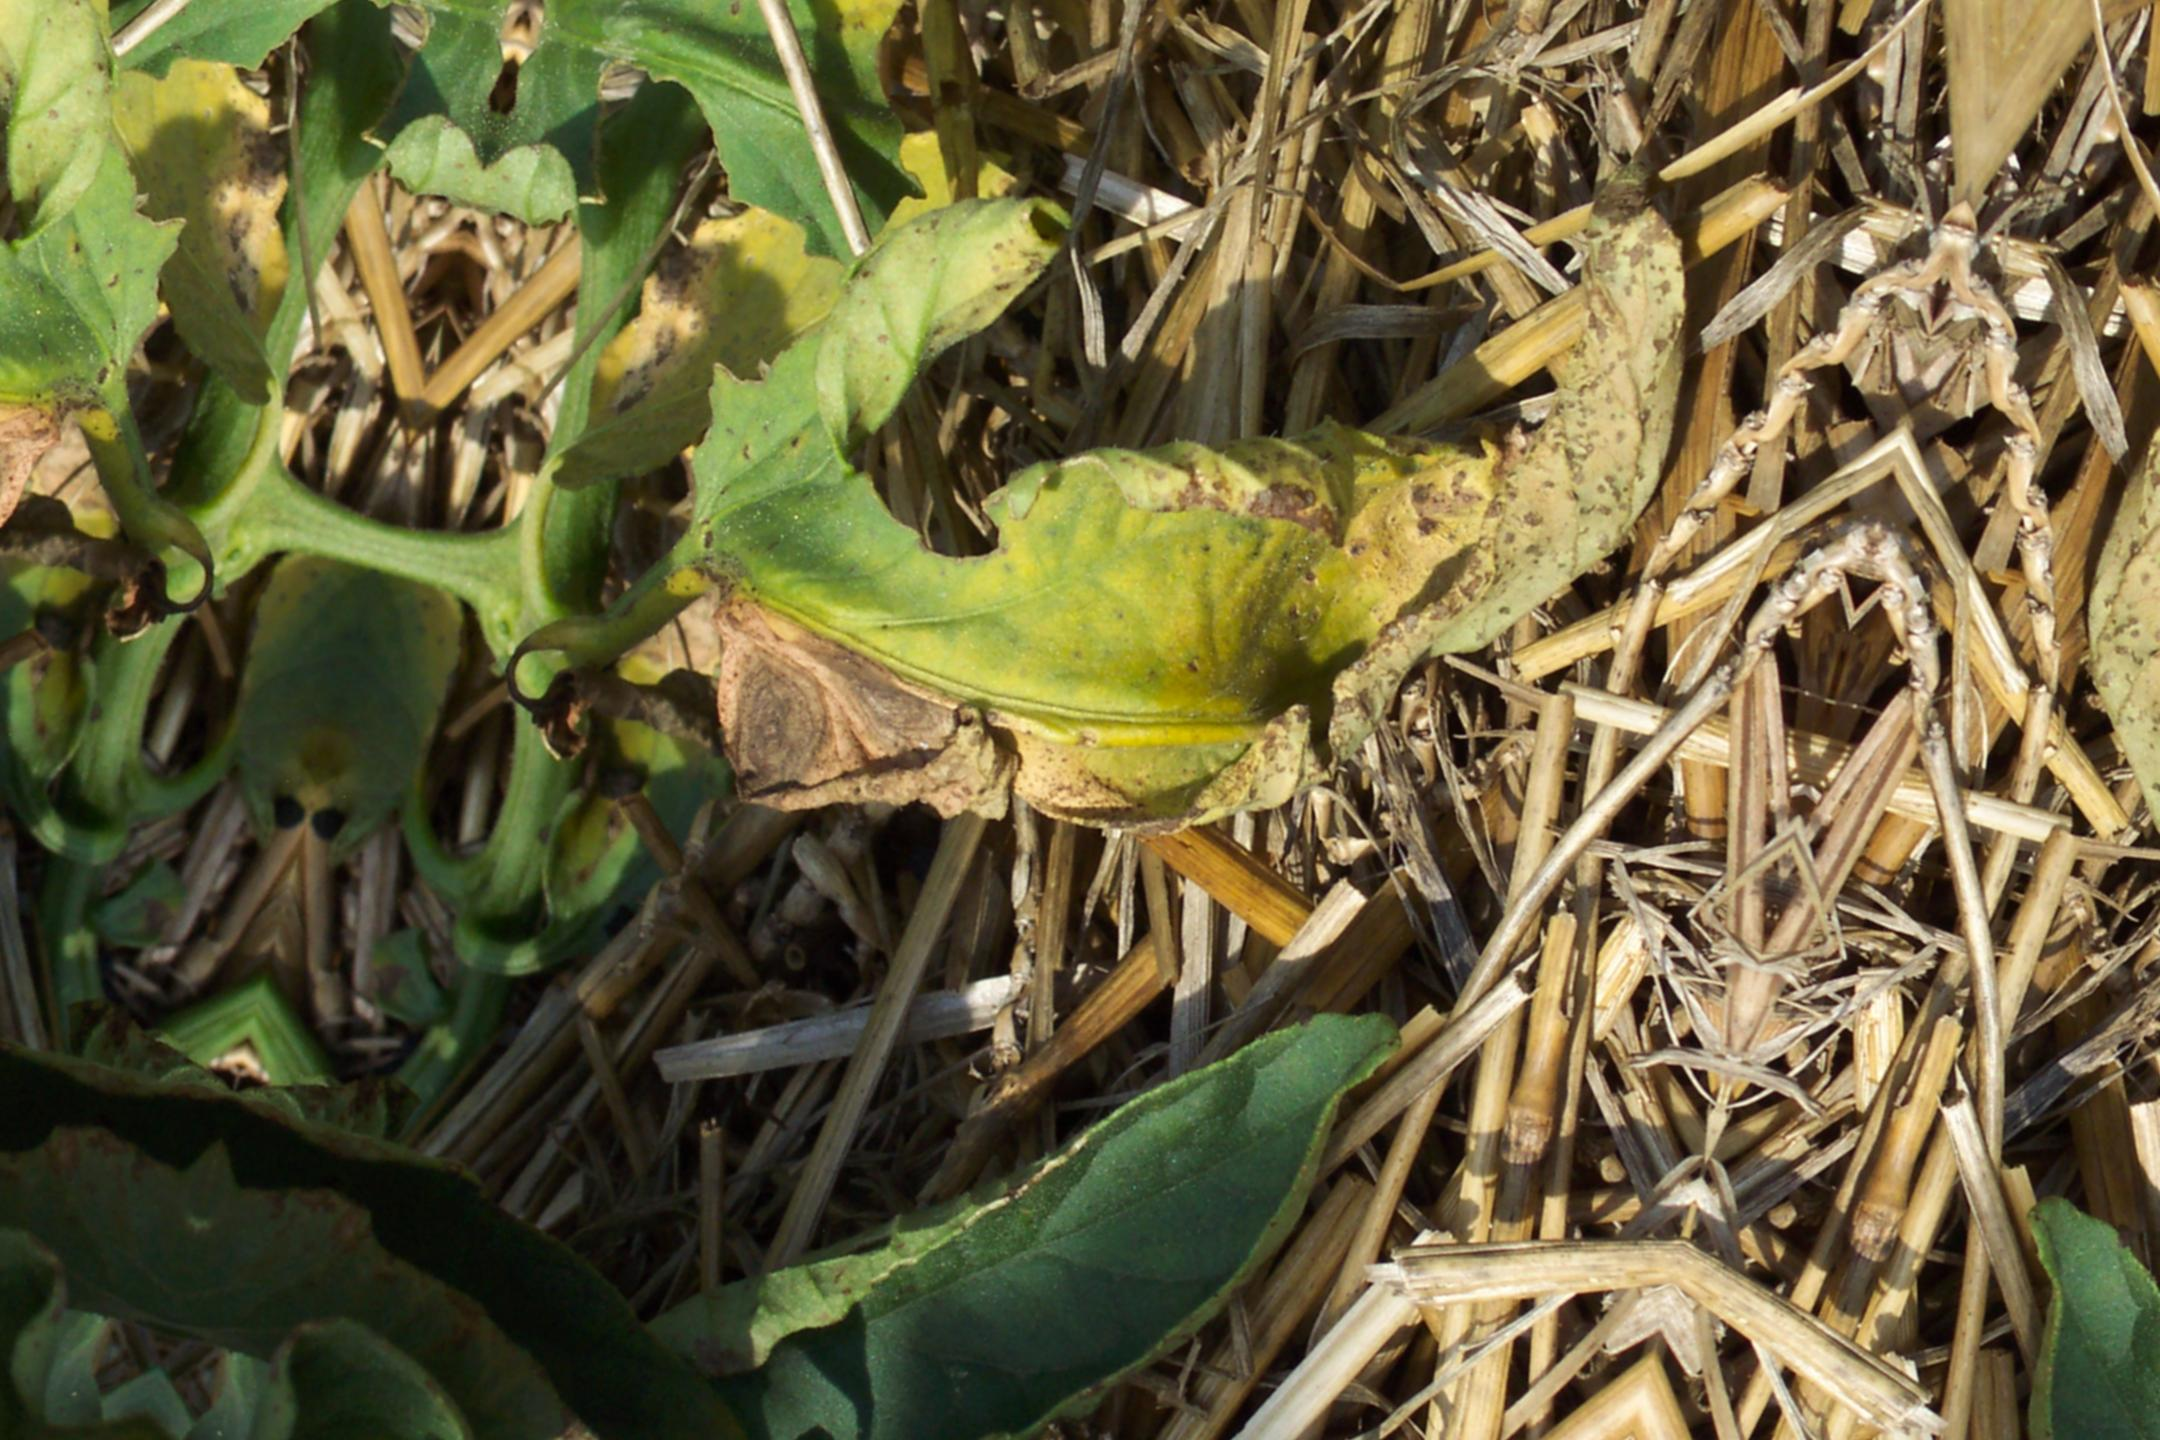Tomato Early blight leaf: (543, 0, 1718, 1038)
